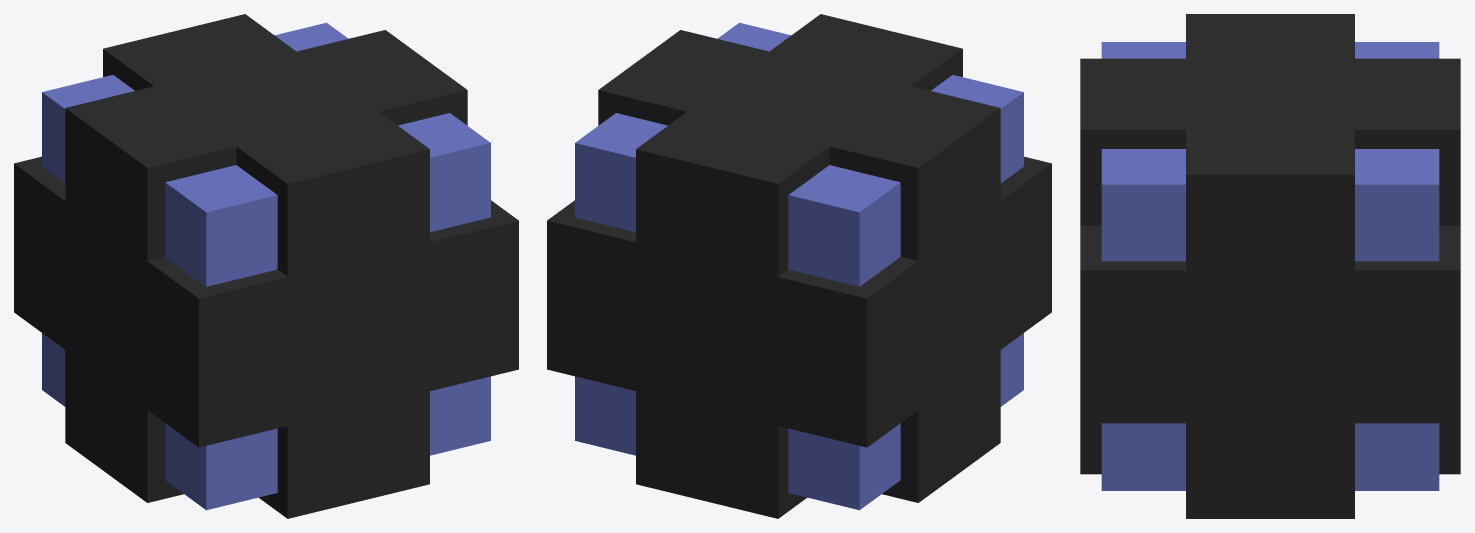
The model's file is PowerUp.fbx.
The picture shows the model from 3 angles, left to right: view 1: azimuth 30°, elevation 25°; view 2: azimuth 150°, elevation 25°; view 3: azimuth 270°, elevation 25°; orthographic projection. The views are drawn at different scales.
Parts seen in each view (by area): view 1: Cube; view 2: Cube; view 3: Cube.
Part boxes in pixels (box(x1,y1,x2,y2)): Cube: box(14, 14, 518, 518); Cube: box(547, 14, 1051, 518); Cube: box(1080, 14, 1460, 518).
Bounding box in the file's own units: 236 × 236 × 236.
